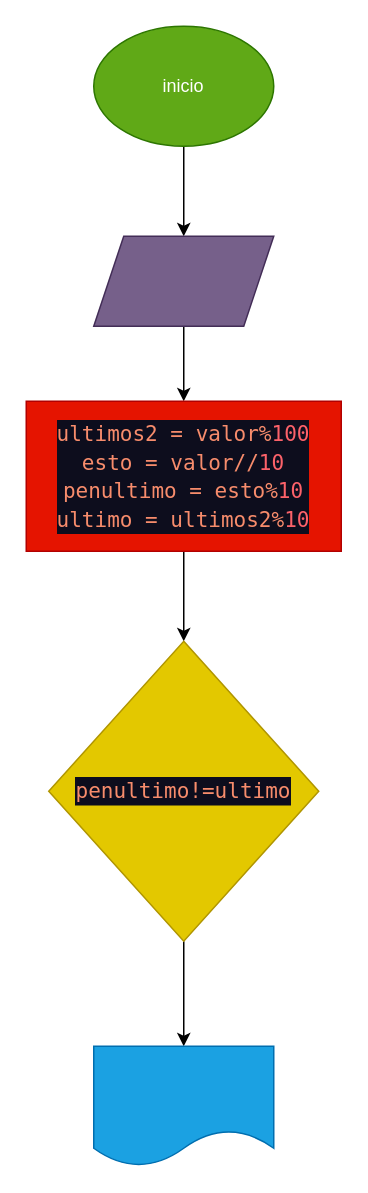
Image size: 368x1193. Some labels were removed from this diagram. The shapes that lost their labels are listed below. From the top down, each one's box as (x1, y1, x2, y2) in pixels, then its label:
(92, 235, 274, 326): input numero
(92, 1045, 274, 1166): rta = son diferentes/son iguales
